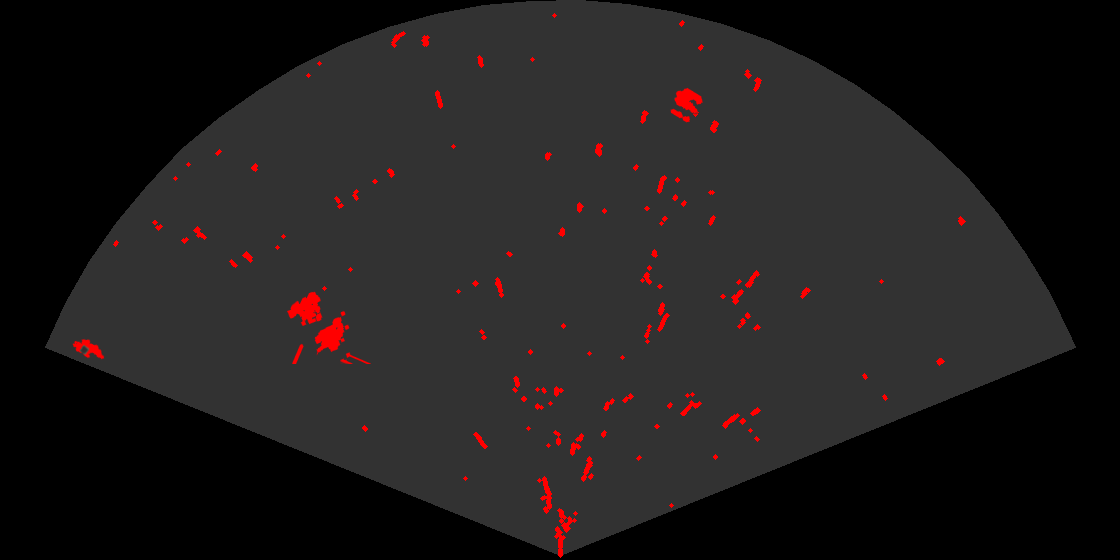AUV: (71, 337, 106, 361)
ball: (669, 86, 704, 124)
cage: (285, 290, 371, 364)
